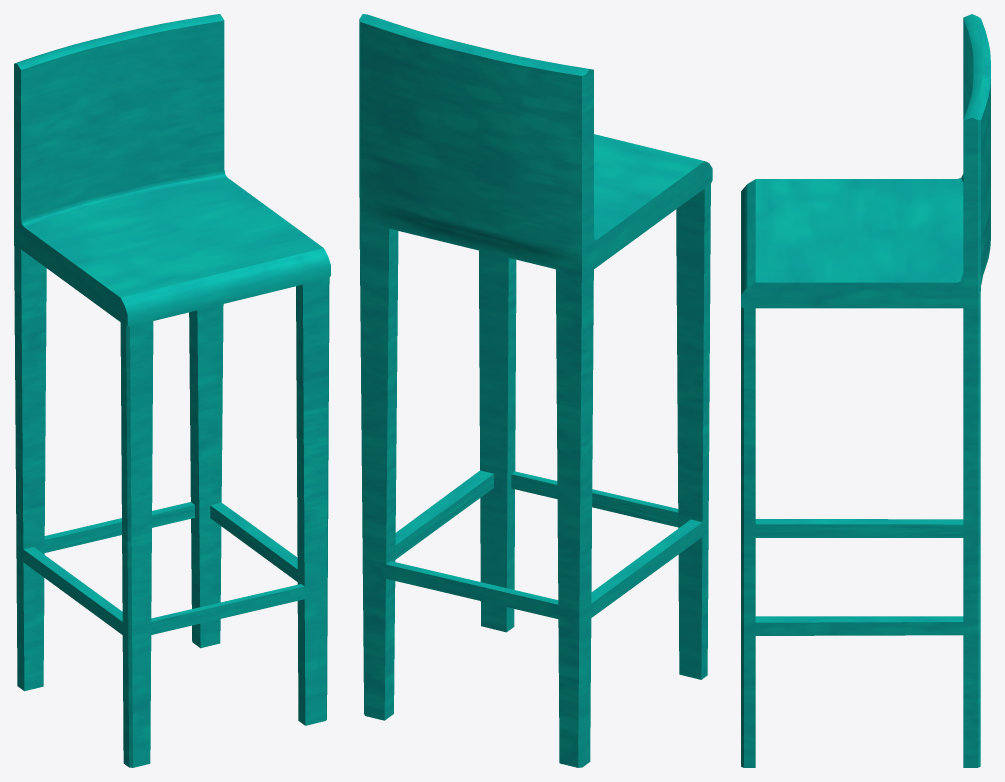
File: chaise_chill_bleu.obj
3 renders of one model, left to right at view 1: azimuth 30°, elevation 25°; view 2: azimuth 150°, elevation 25°; view 3: azimuth 270°, elevation 25°, orthographic. The views are drawn at different scales.
Visible parts, largest first — view 1: pasted__pCube2 group2; view 2: pasted__pCube2 group2; view 3: pasted__pCube2 group2.
Boxes of the visible parts, x1,y1,x2,y2 form: pasted__pCube2 group2: [14, 14, 330, 767]; pasted__pCube2 group2: [359, 14, 712, 767]; pasted__pCube2 group2: [741, 14, 990, 767].
Bounding box in the file's own units: 11.58 × 34.04 × 11.81.
Materials: 1 (1 with a texture image).
